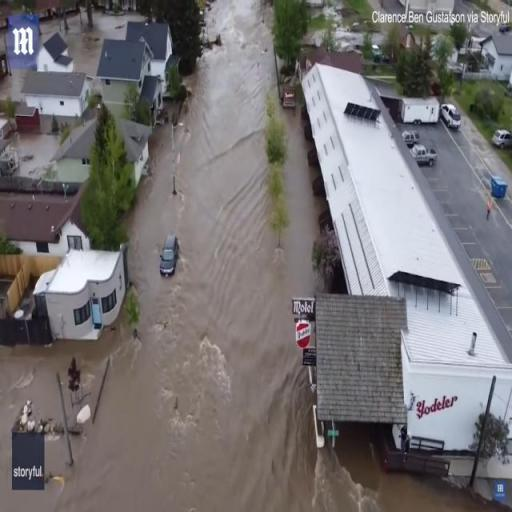flood: (0, 0, 512, 512), (41, 10, 145, 76)
house: (291, 62, 512, 304), (33, 244, 134, 346), (54, 115, 152, 175), (19, 72, 90, 124), (98, 36, 155, 96), (125, 18, 175, 60), (36, 32, 77, 74), (480, 32, 510, 81)
